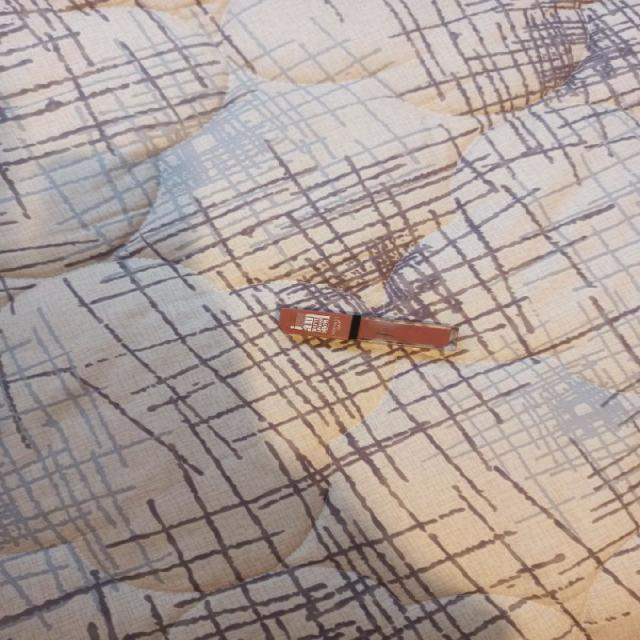lipstick: (275, 306, 458, 350)
